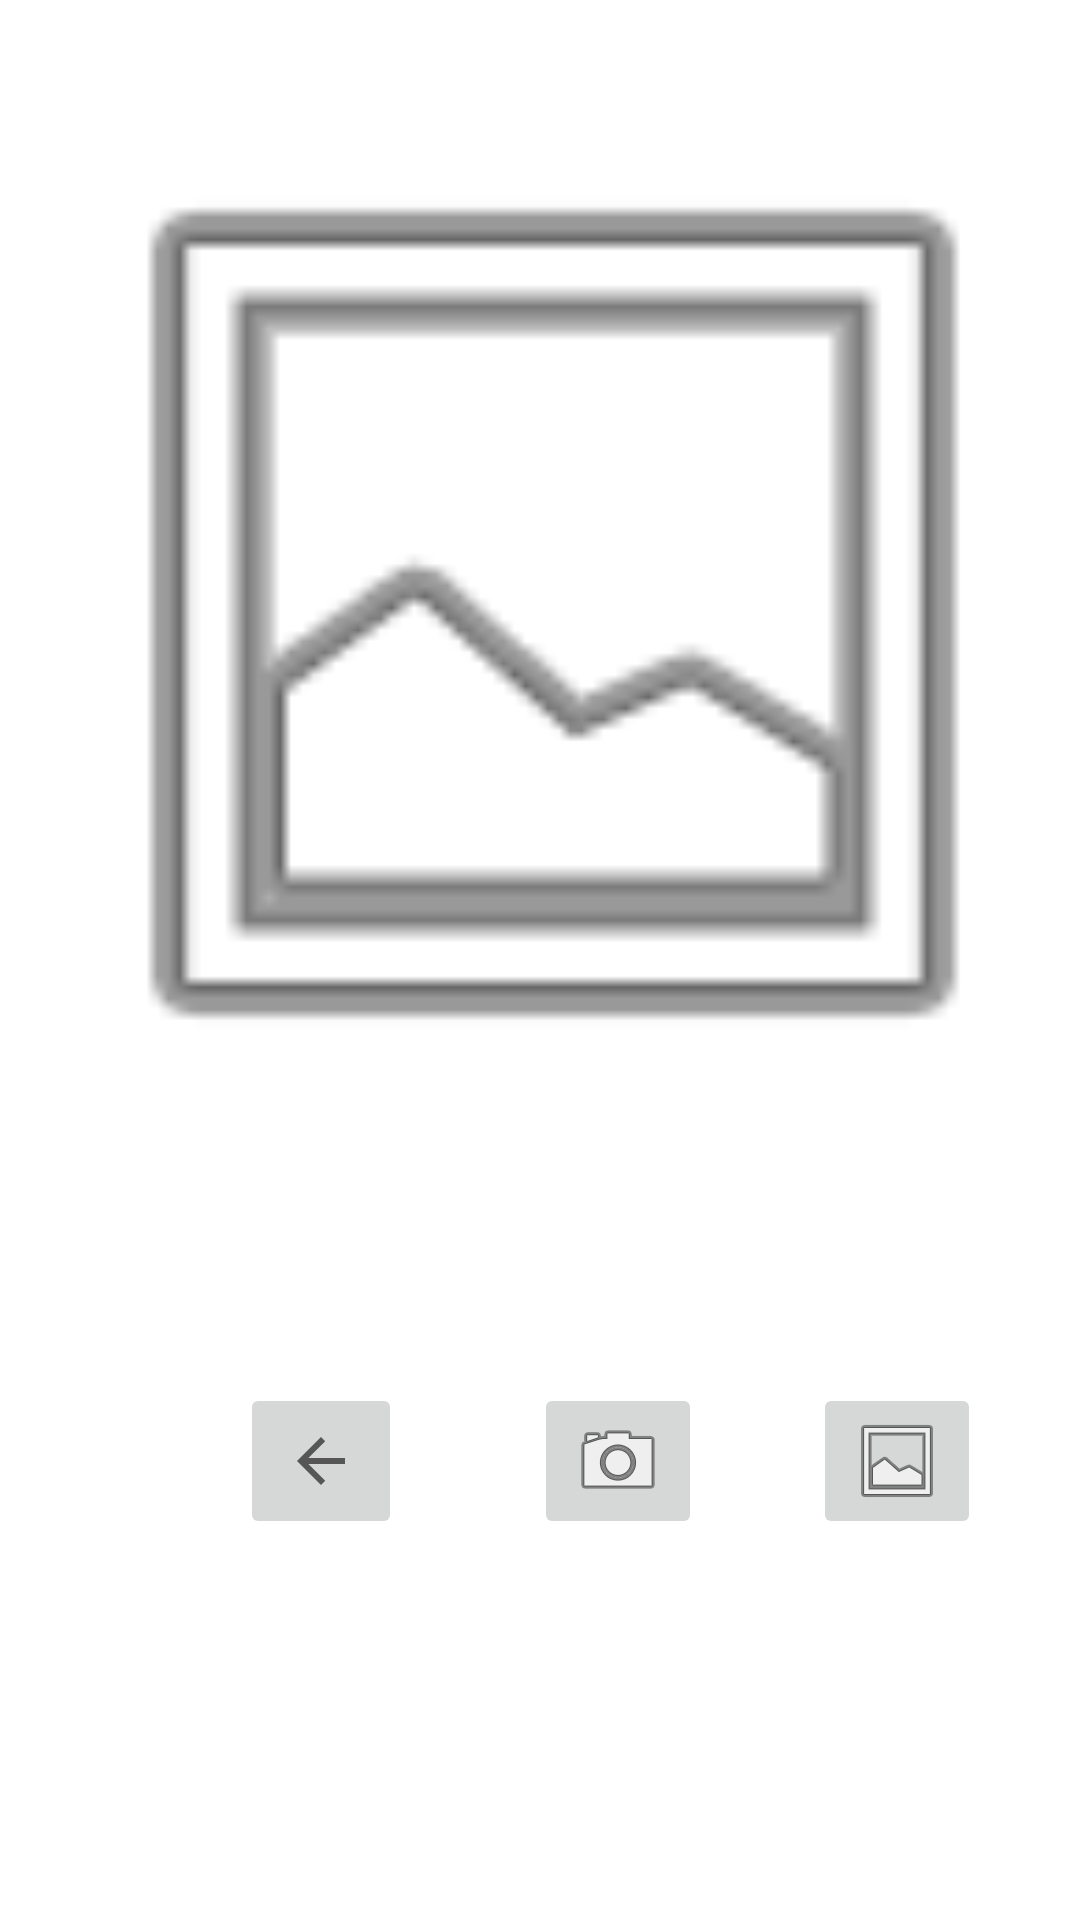

Named icons in this screenshot (1080x1920) and their bounding boxes, (x1, y1, x2, y2):
camera: (546, 1401, 690, 1521)
